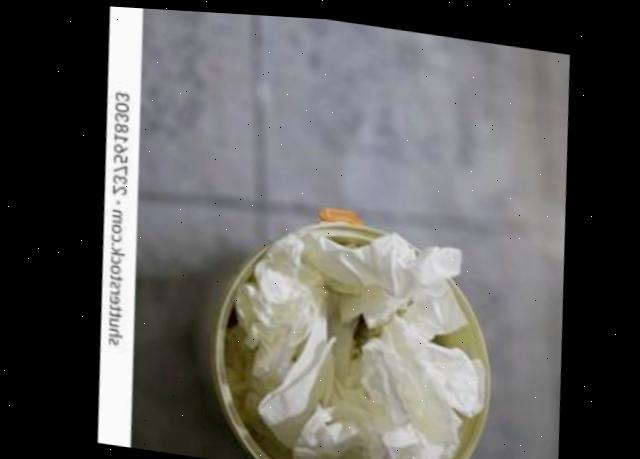Paper: (223, 223, 478, 459)
contaminated_waste: (226, 225, 479, 459)
top_view_waste: (233, 226, 480, 459)
